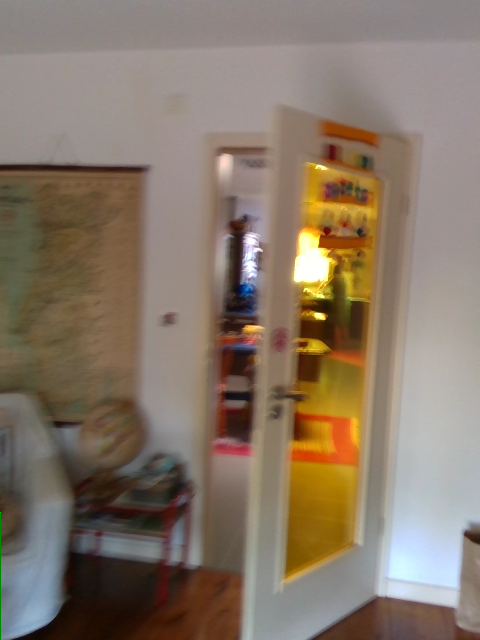semi: (195, 107, 424, 639)
